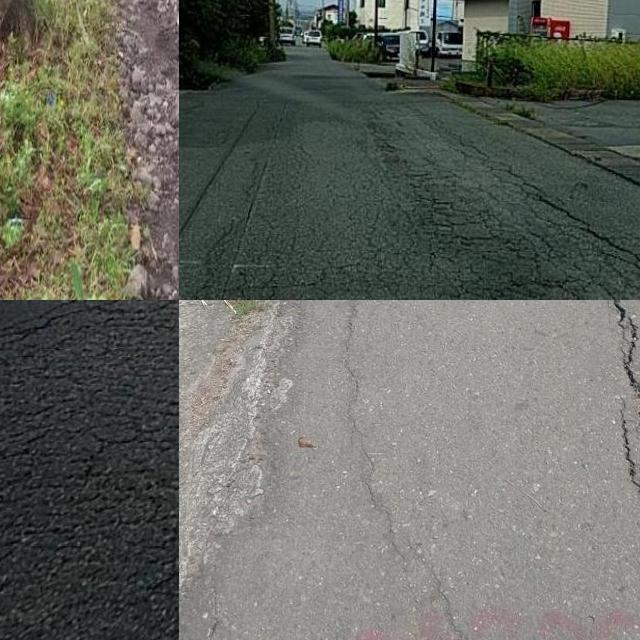Pinggir: (115, 0, 179, 300)
Retak Buaya: (224, 146, 640, 300), (0, 300, 179, 549)
